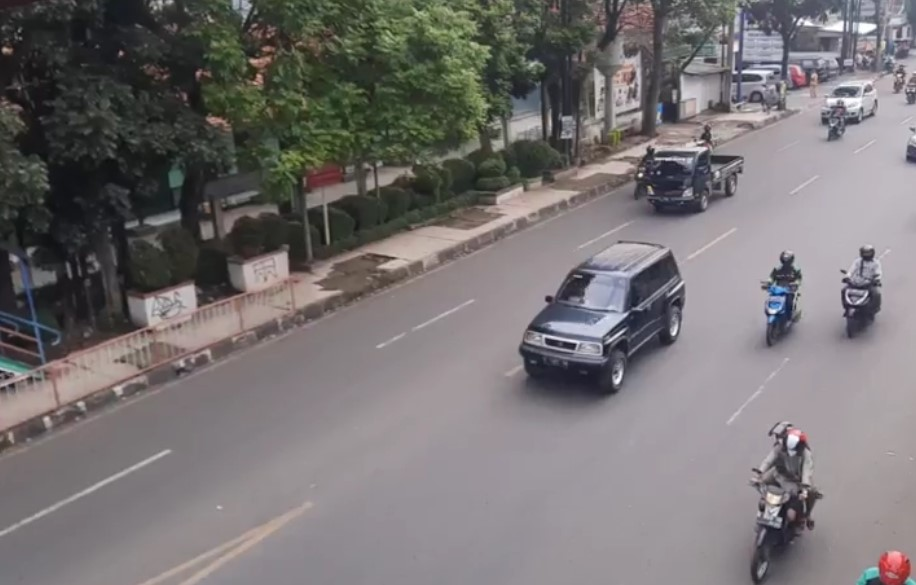motor: (732, 421, 820, 581), (835, 241, 897, 341), (749, 248, 812, 340)
